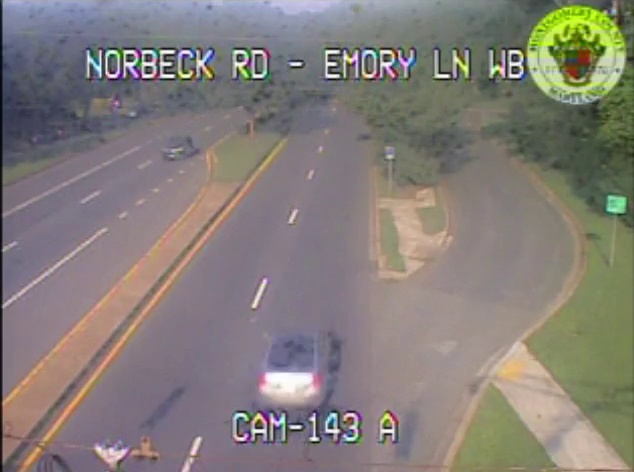car: (259, 330, 332, 408)
